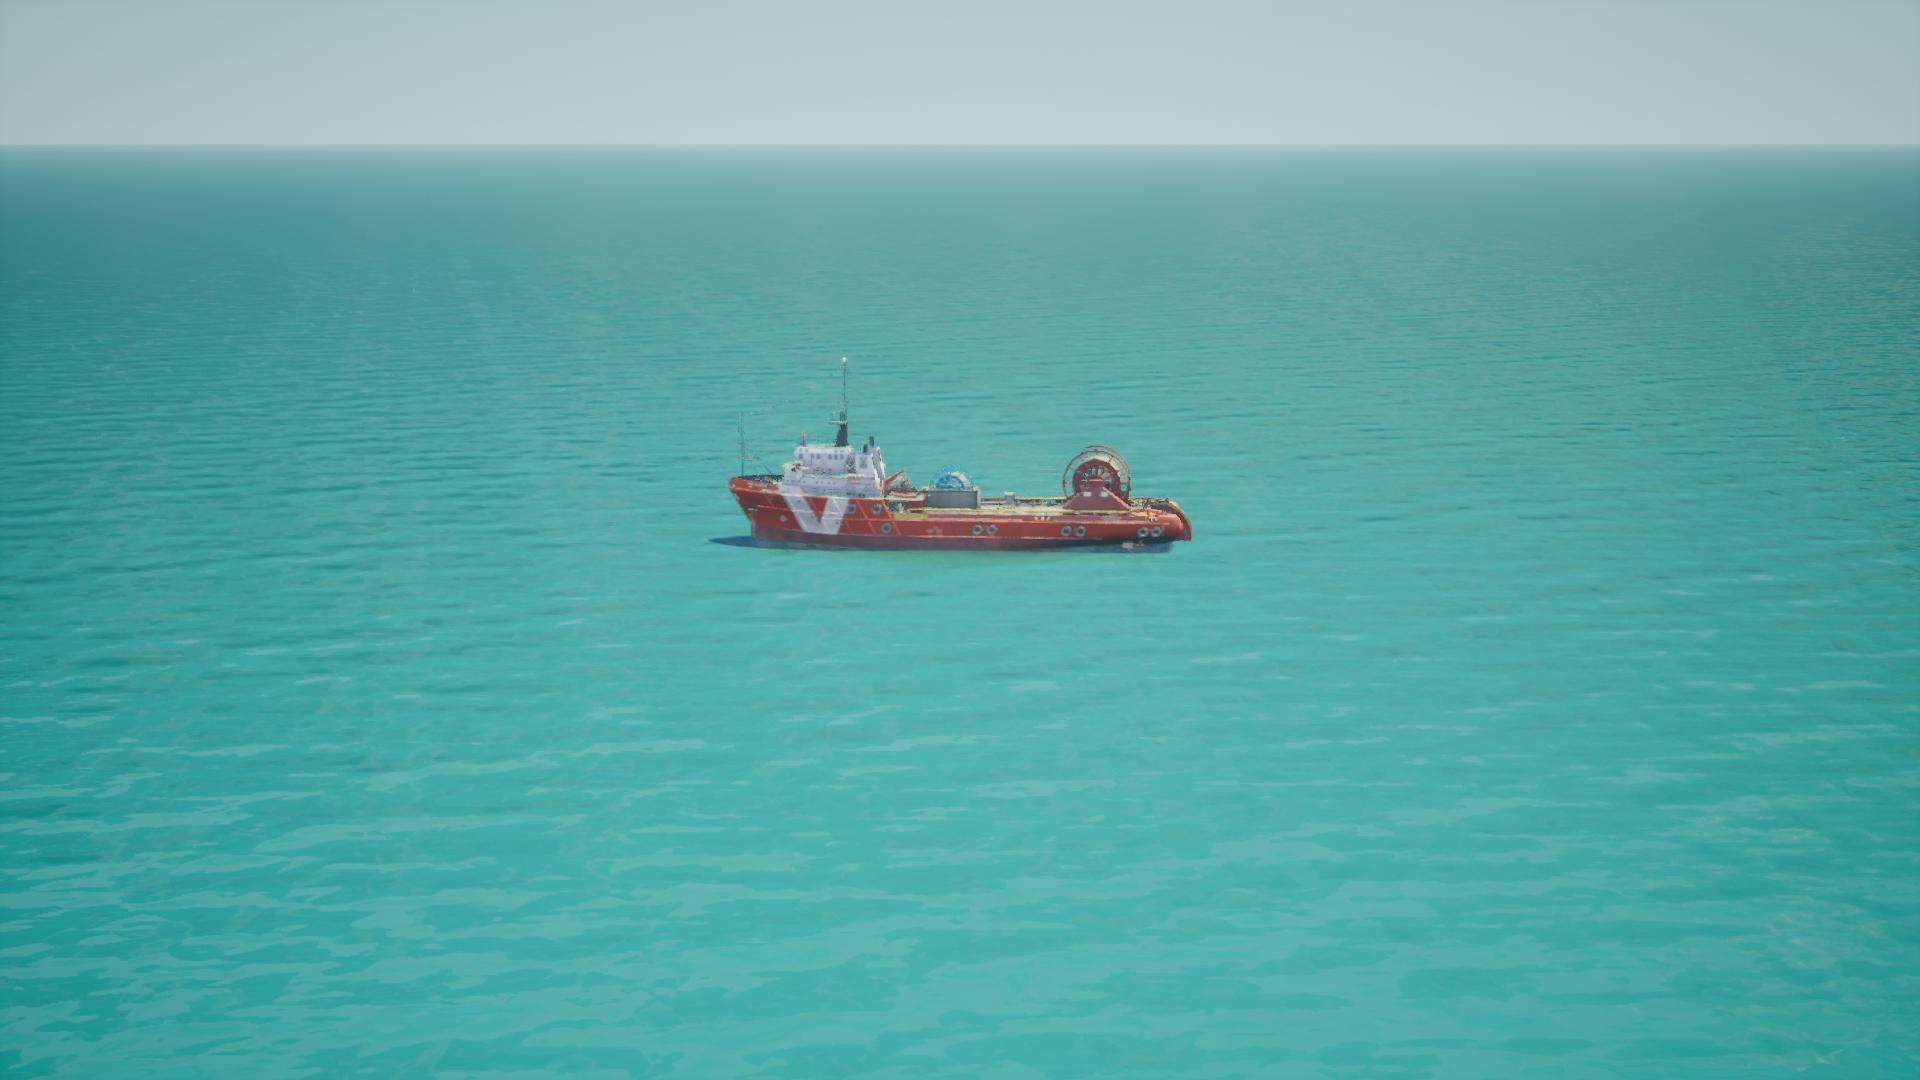Tug Boat: (716, 361, 1192, 560)
